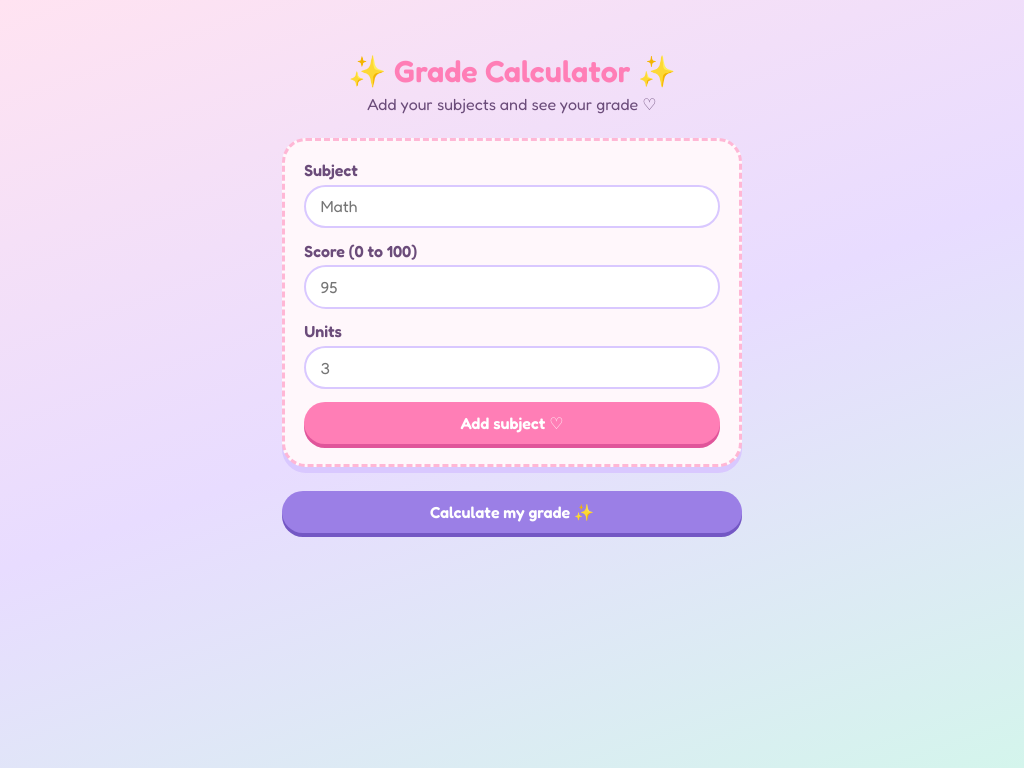
Grade calculator app › shows an error when calculating with no subjects
Step 1. Click the button "Calculate my grade ✨" → {"x": 512, "y": 512}, box left=282, top=491, right=742, bottom=533
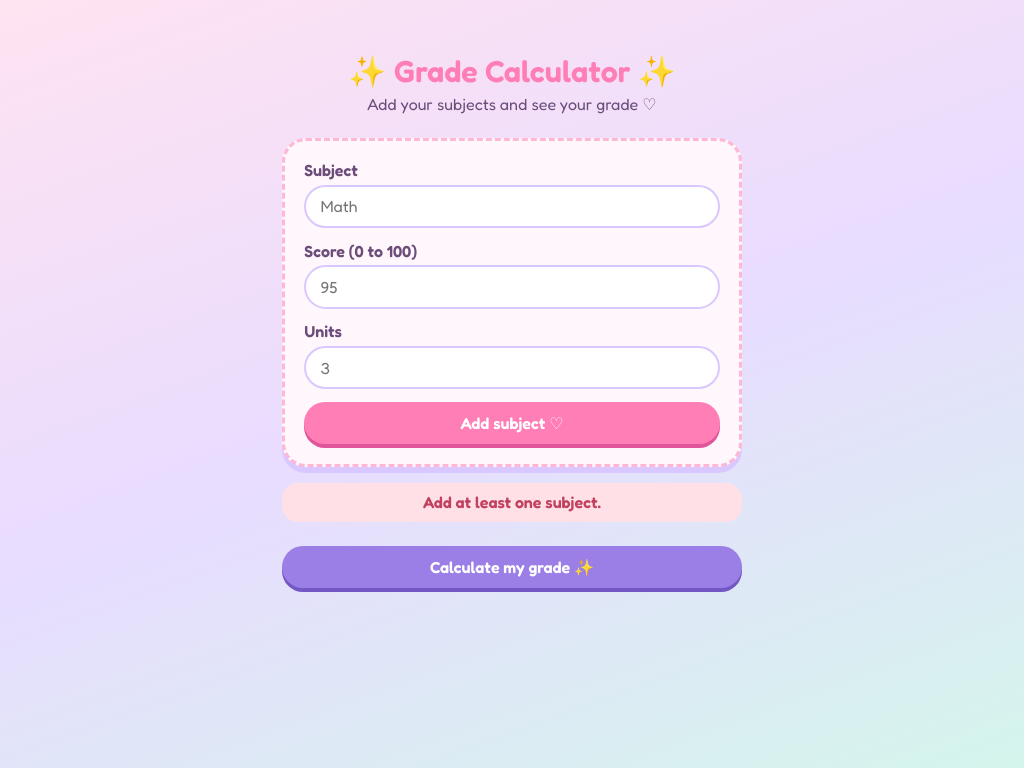
Check: the text "Add at least one subject." is shown, box left=282, top=483, right=742, bottom=522
